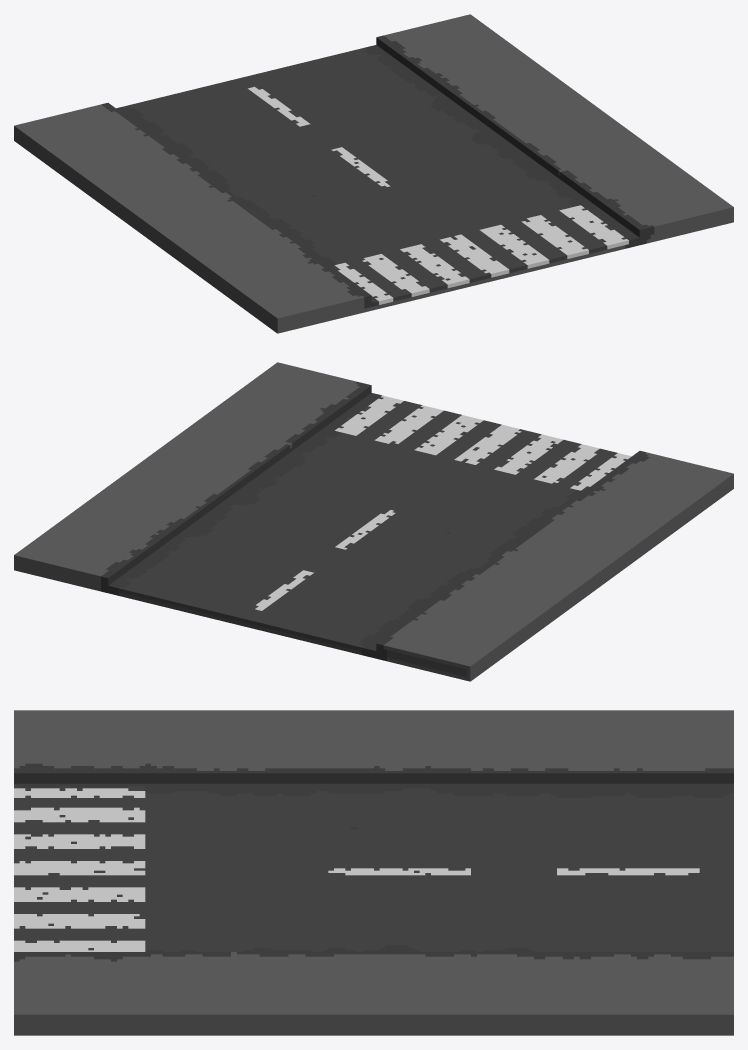
File: Road-2.obj
3 renders of one model, top to bottom at view 1: azimuth 30°, elevation 25°; view 2: azimuth 150°, elevation 25°; view 3: azimuth 270°, elevation 25°, orthographic. The views are drawn at different scales.
Bounding box in the file's own units: 12.6 × 0.4 × 12.6.
Materials: 1 (1 with a texture image).
